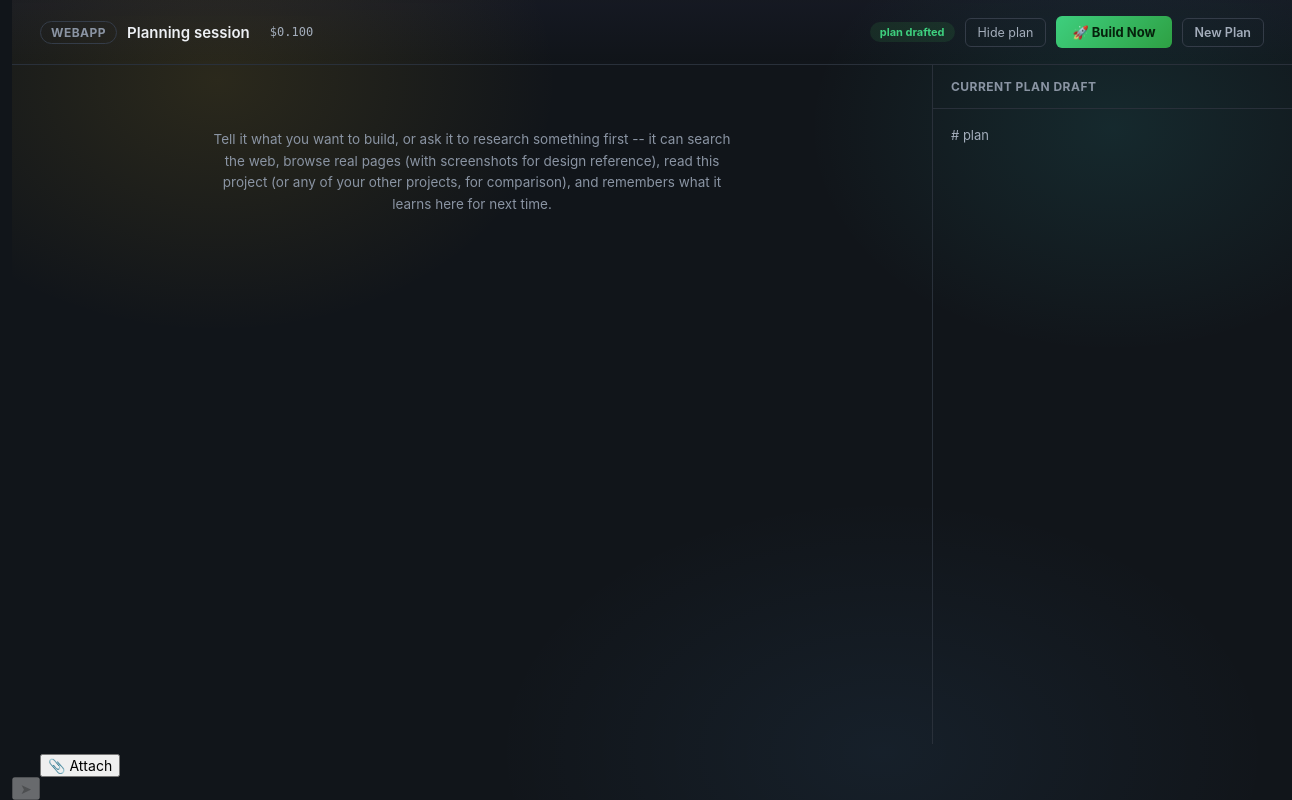
Test: PlanningView — New Plan › says so when archiving or creating fails, rather than coming back silent
The width and height of the screenshot is (1292, 800).
Click the button "New Plan": (1223, 32) [1182,18,1264,46]
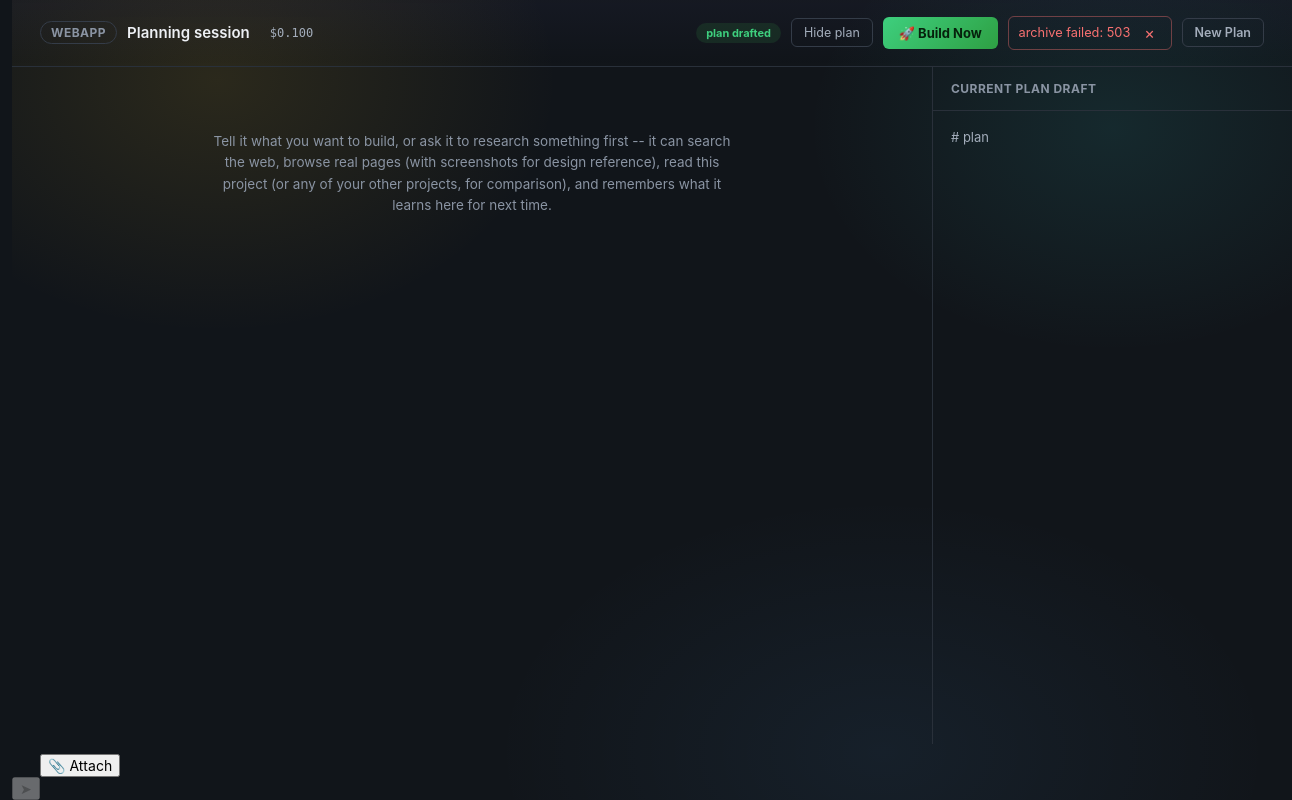
Check: the message shows "archive failed: 503", box [1018,25,1130,40]
